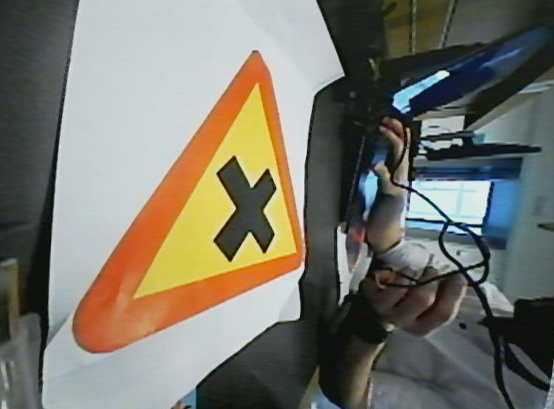junction: (71, 44, 311, 355)
